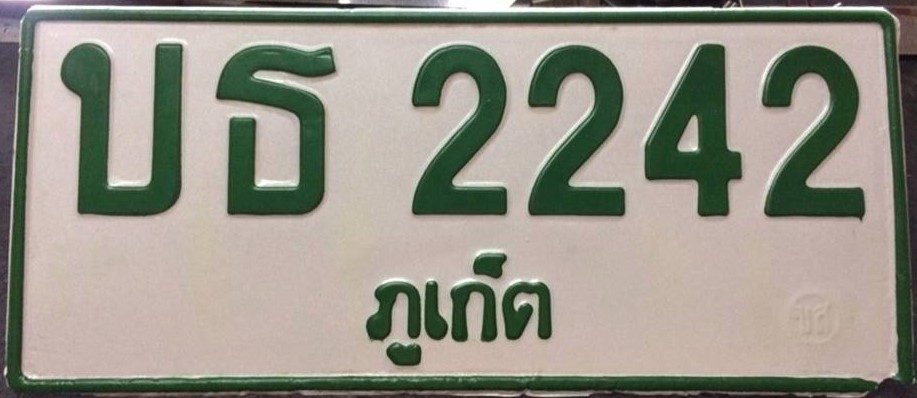txt19: (211, 40, 340, 222)
txt21: (55, 36, 188, 221)
